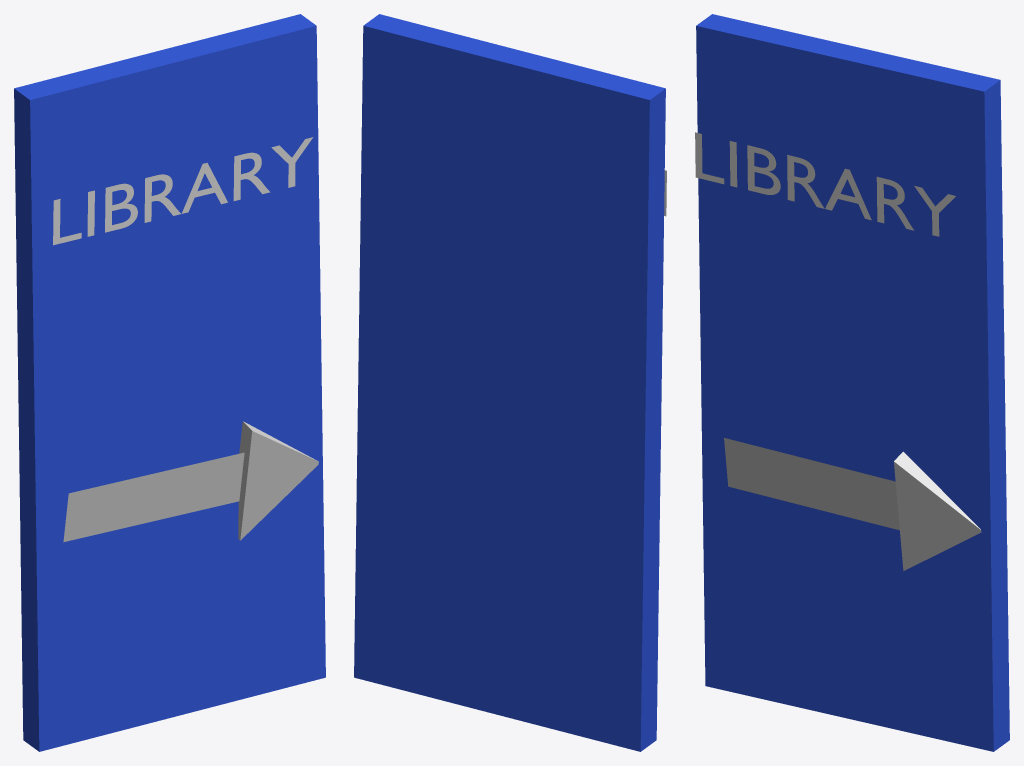
The model's file is libdir.glb.
The picture shows the model from 3 angles, left to right: view 1: azimuth 30°, elevation 25°; view 2: azimuth 150°, elevation 25°; view 3: azimuth 330°, elevation 25°; orthographic projection.
Visible parts, largest first — view 1: Cube, Cube.001, Text; view 2: Cube; view 3: Cube, Cube.001, Text.
Boxes of the visible parts, <box> form: Cube: <box>14,14,325,751</box>; Cube.001: <box>63,421,318,542</box>; Text: <box>53,137,313,245</box>; Cube: <box>354,14,665,751</box>; Cube: <box>696,14,1009,751</box>; Cube.001: <box>724,438,981,570</box>; Text: <box>695,132,955,236</box>.
Size of the model in its own units: 2.06 by 4.39 by 0.3489.
